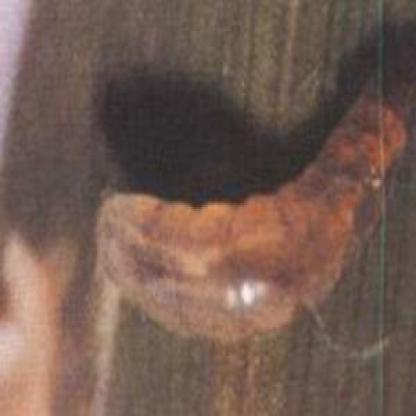whorl-maggot: (94, 94, 408, 340)
